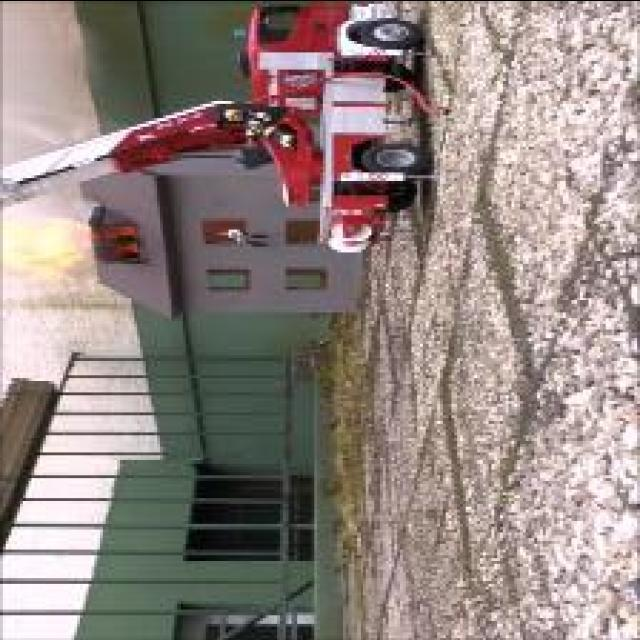Fire: (5, 216, 91, 278)
